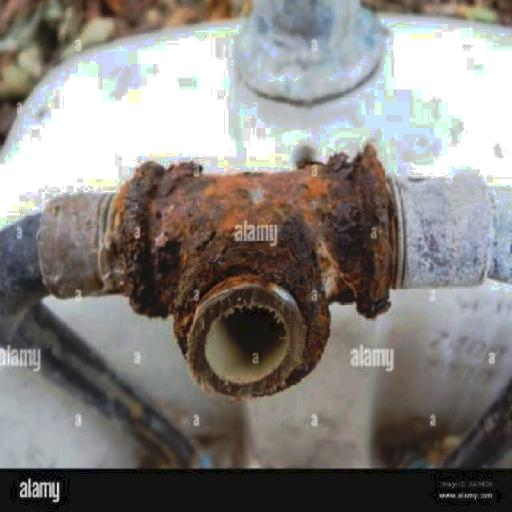corrosion: (99, 158, 391, 385)
